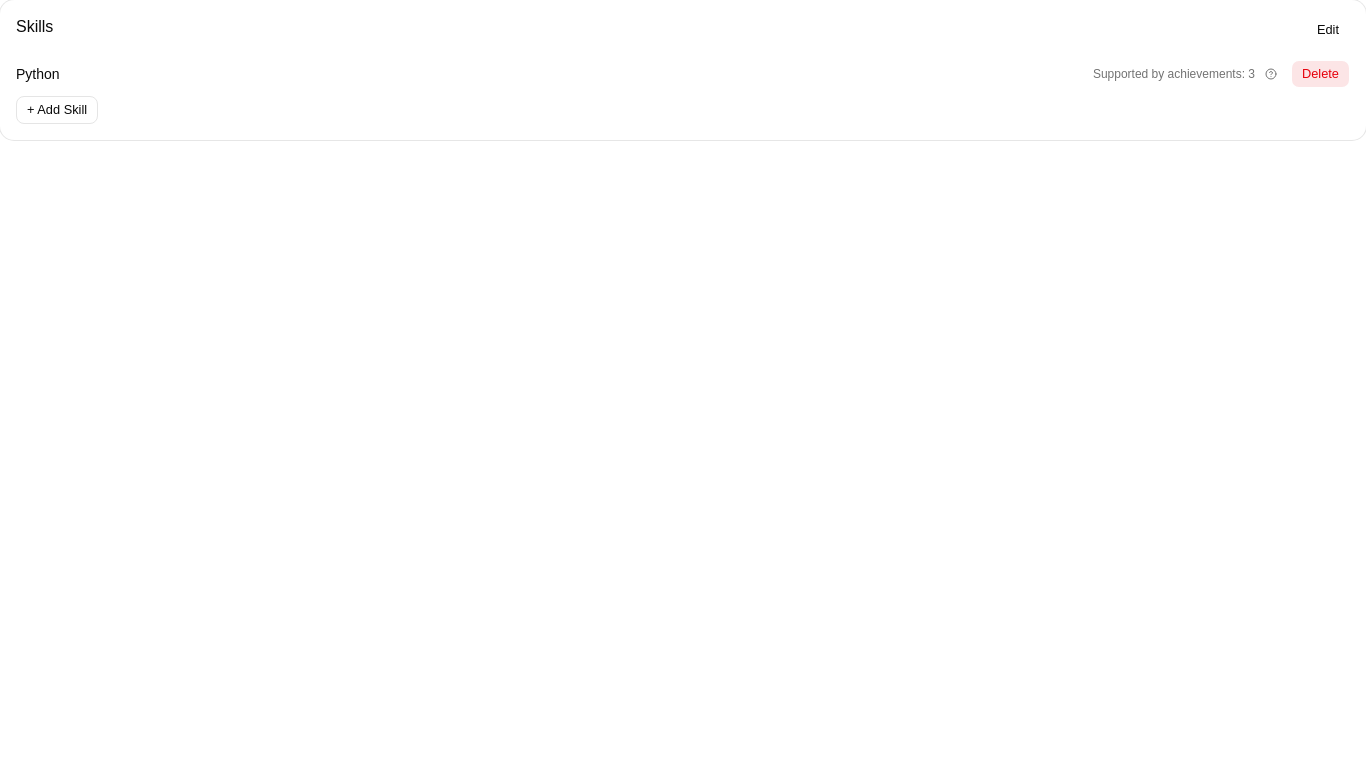
Test: EntitySection › groups the popover by company/position/project instead of repeating source_context
The width and height of the screenshot is (1366, 768).
Click the button named "Show supporting achievements" at (1271, 74), box [1259, 62, 1283, 86]
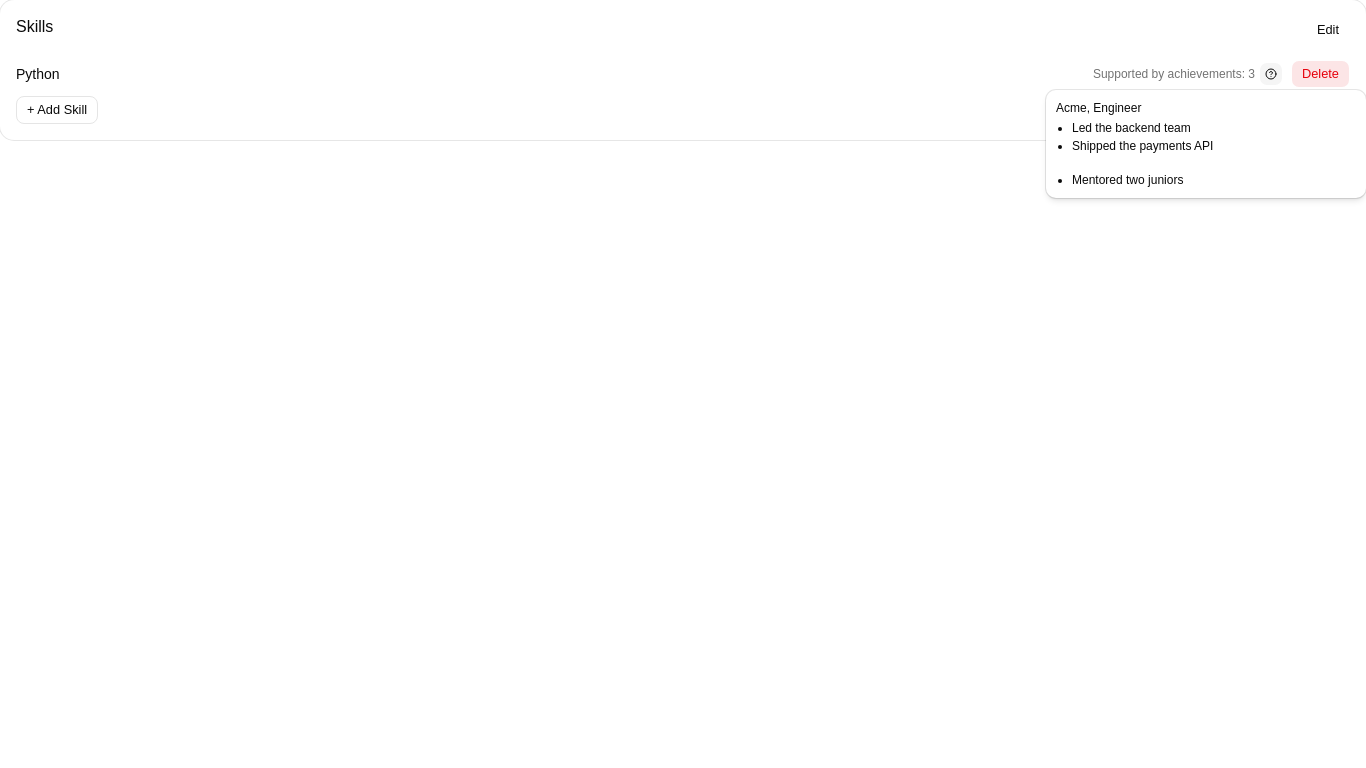
Result: the text "Acme, Engineer" is shown once at [1056, 101, 1141, 115]
Result: the list item "Led the backend team" is shown at [1072, 121, 1191, 135]
Result: the list item "Shipped the payments API" is shown at [1072, 139, 1213, 153]
